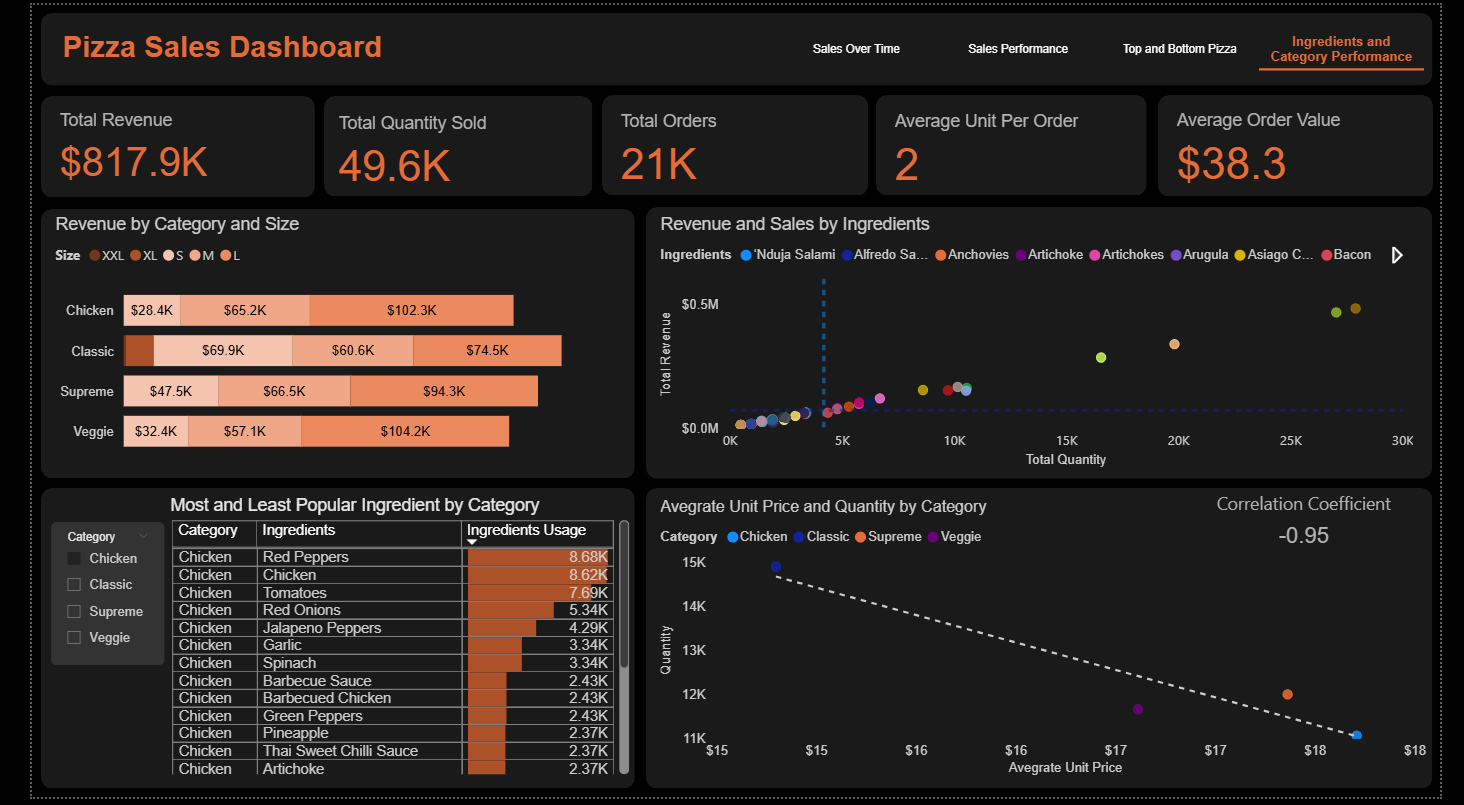

Layout of this report page (visuals, bound fields, positions):
{"tool":"powerbi","page":{"name":"Ingredients and Category Analysis","canvas":[1280,720],"ordinal":3},"visuals":[{"type":"shape","box":[558.3,183.8,714.9,247.1],"z":0},{"type":"shape","box":[7.8,185.8,539.8,245.1],"z":1000},{"type":"shape","box":[0,0,1279.7,72.5],"z":2000},{"type":"shape","box":[7.8,82.7,249,92.4],"z":3000},{"type":"shape","box":[265.5,82.7,244.1,91.4],"z":4000},{"type":"shape","box":[518.4,81.7,242.2,91.4],"z":5000},{"type":"shape","box":[767.4,81.7,246.1,91.4],"z":6000},{"type":"shape","box":[1023.2,81.7,250,92.4],"z":7000},{"type":"cardVisual","fields":{"Data":["Sheet1.Total Revenue"]},"box":[7.8,81.7,224.7,97.3],"z":8000},{"type":"cardVisual","fields":{"Data":["Sheet1.Total Quantity Sold"]},"box":[261.6,85.6,251.9,86.6],"z":9000},{"type":"cardVisual","fields":{"Data":["Sheet1.Average Unit Per Order"]},"box":[767.4,80.7,237.3,91.4],"z":10000},{"type":"cardVisual","fields":{"Data":["Count(Sheet1.order_id)"]},"box":[518.4,80.7,231.5,95.3],"z":11000},{"type":"cardVisual","title":"Avg Time Per Order","fields":{"Data":["Sheet1.Average Order Value"]},"box":[1019.3,79.8,241.2,95.3],"z":12000},{"type":"shape","box":[7.8,438.7,539.8,273.3],"z":13000},{"type":"shape","box":[558.3,438.7,714.9,273.3],"z":14000},{"type":"barChart","title":"Revenue by Category and Size","fields":{"Category":["Sheet1.category"],"Series":["Sheet1.size"],"Y":["Sheet1.Total Revenue"]},"box":[16.5,190.6,524.3,231.5],"z":15000},{"type":"scatterChart","title":"Revenue and Sales by Ingredients","fields":{"X":["Ingredient by Quantity and Revenue.Total Quantity Sold"],"Y":["Ingredient by Quantity and Revenue.Total Revenue"],"Series":["Ingredient by Quantity and Revenue.ingredients"]},"box":[566.1,190.6,694.5,234.4],"z":16000},{"type":"scatterChart","fields":{"X":["Sheet1.Avegrate Unit Price"],"Y":["Sheet1.Total Quantity Sold"],"Series":["Sheet1.category"]},"box":[566.1,447.4,694.5,250],"z":17000},{"type":"textbox","box":[476.4,14.3,435.2,43.9],"z":18000},{"type":"tableEx","title":"Most and Least Popular Ingredient by Category","fields":{"Values":["Ingredient per Category.category","Ingredient Per Category.ingredients","Sum(Ingredient Per Category.Ingredients Usage)"]},"box":[120.6,446.4,427,257.8],"z":19000},{"type":"slicer","fields":{"Values":["Ingredient Per Category.category"]},"box":[16.5,469.8,104.1,132.3],"z":20000},{"type":"cardVisual","fields":{"Data":["Sheet1.Correlation Coefficient"]},"box":[1032.9,425,247.1,75.9],"z":21000}]}

Visuals, with their boxes in screenshot pixels (x1, y1, x2, y2), scaled from the page's 1280x720 canvas onto the 1464x805 screenshot:
shape: box(639, 205, 1456, 482)
shape: box(9, 208, 626, 482)
shape: box(0, 0, 1463, 81)
shape: box(9, 92, 294, 196)
shape: box(304, 92, 583, 195)
shape: box(593, 91, 870, 194)
shape: box(878, 91, 1159, 194)
shape: box(1170, 91, 1456, 195)
cardVisual - Sheet1.Total Revenue: box(9, 91, 266, 200)
cardVisual - Sheet1.Total Quantity Sold: box(299, 96, 587, 193)
cardVisual - Sheet1.Average Unit Per Order: box(878, 90, 1149, 192)
cardVisual - Count(Sheet1.order_id): box(593, 90, 858, 197)
"Avg Time Per Order" cardVisual: box(1166, 89, 1442, 196)
shape: box(9, 490, 626, 796)
shape: box(639, 490, 1456, 796)
"Revenue by Category and Size" barChart: box(19, 213, 619, 472)
"Revenue and Sales by Ingredients" scatterChart: box(647, 213, 1442, 475)
scatterChart - Sheet1.Avegrate Unit Price x Sheet1.Total Quantity Sold: box(647, 500, 1442, 780)
textbox: box(545, 16, 1043, 65)
"Most and Least Popular Ingredient by Category" tableEx: box(138, 499, 626, 787)
slicer - Ingredient Per Category.category: box(19, 525, 138, 673)
cardVisual - Sheet1.Correlation Coefficient: box(1181, 475, 1463, 560)
